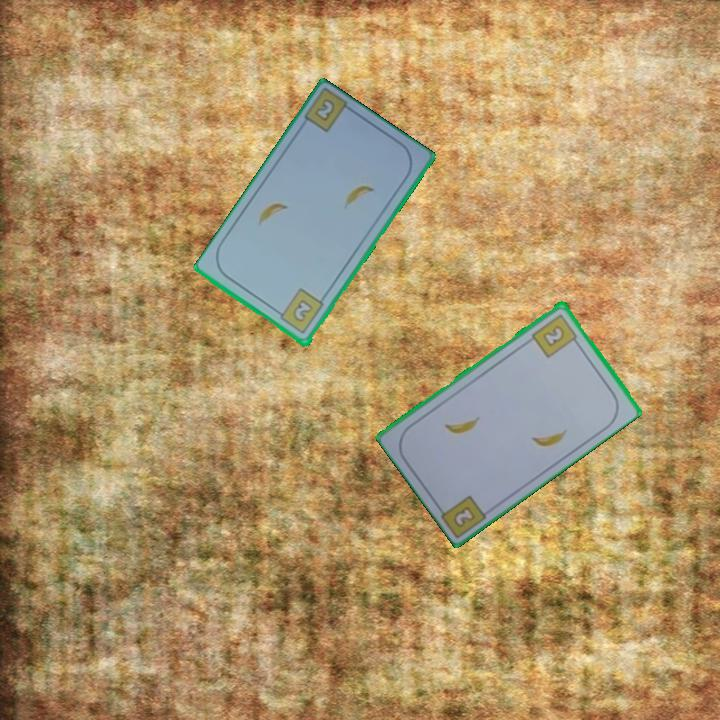2b: (272, 285, 327, 337), (528, 310, 582, 360), (449, 502, 478, 532), (311, 95, 338, 125)
